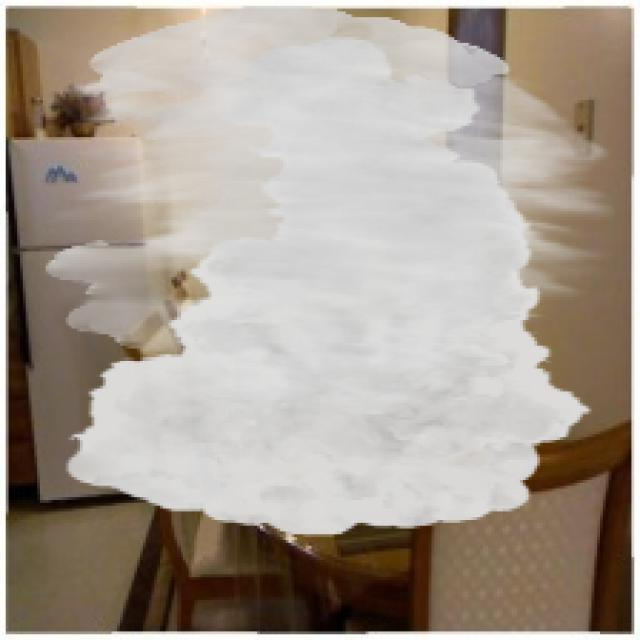Smoke: (46, 5, 614, 538)
